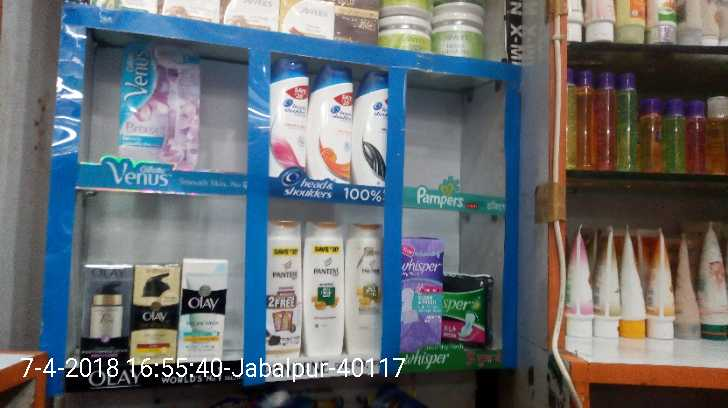venus: (120, 42, 201, 171)
